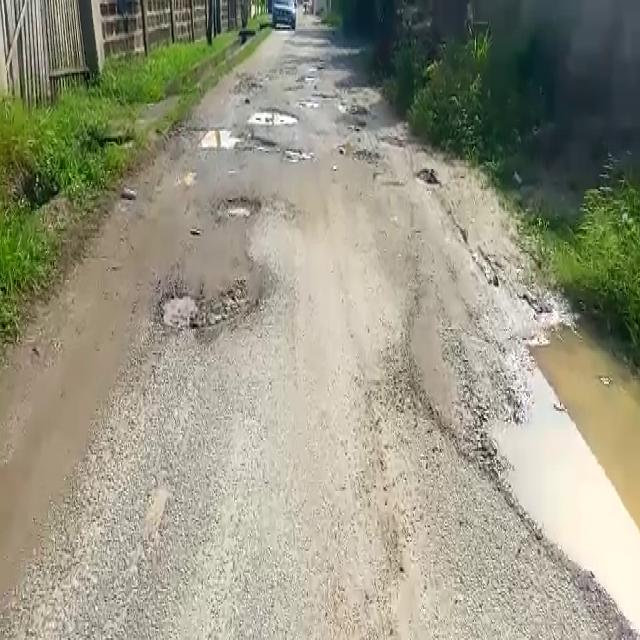Pothole: (480, 313, 640, 632), (156, 286, 248, 330), (188, 123, 243, 150), (218, 193, 262, 222), (247, 109, 299, 127), (285, 144, 314, 164)
